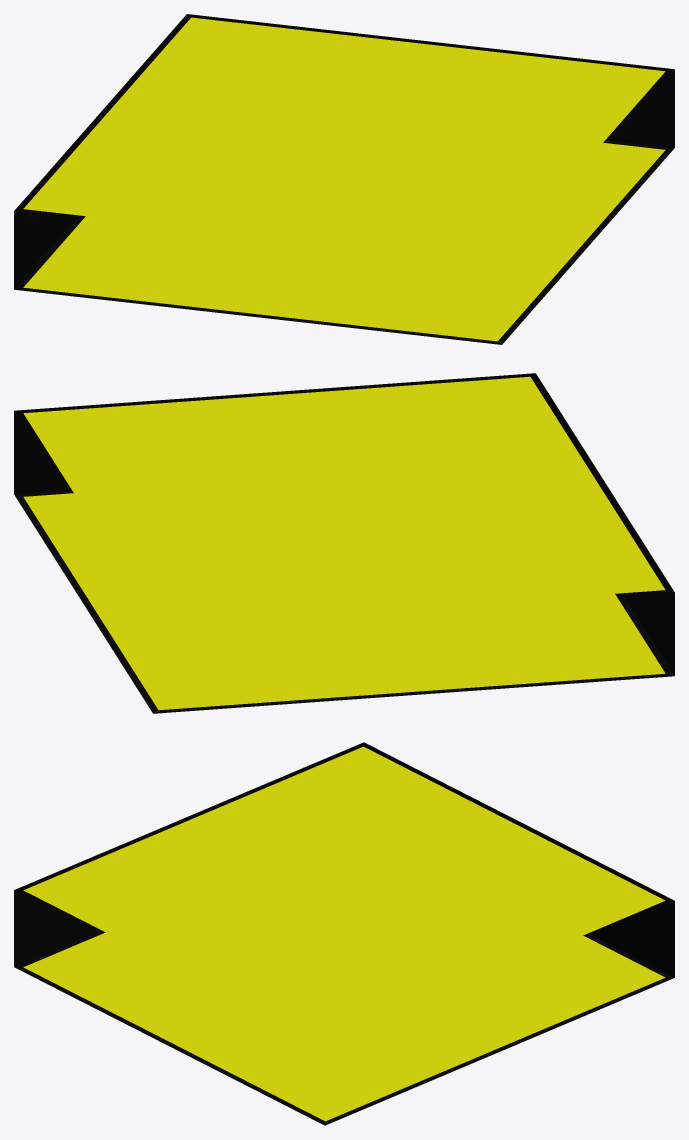
Rendered from YELLOW CUBE.glb.
The picture shows the model from 3 angles, top to bottom: view 1: azimuth 30°, elevation 25°; view 2: azimuth 150°, elevation 25°; view 3: azimuth 270°, elevation 25°; orthographic projection. The views are drawn at different scales.
Parts seen in each view (by area): view 1: Plane.001; view 2: Plane.001; view 3: Plane.001.
Boxes of the visible parts, <box> form: Plane.001: <box>14,14,674,344</box>; Plane.001: <box>14,373,674,713</box>; Plane.001: <box>14,742,674,1125</box>.
Size of the model in its own units: 4.14 by 0.4854 by 3.78.
